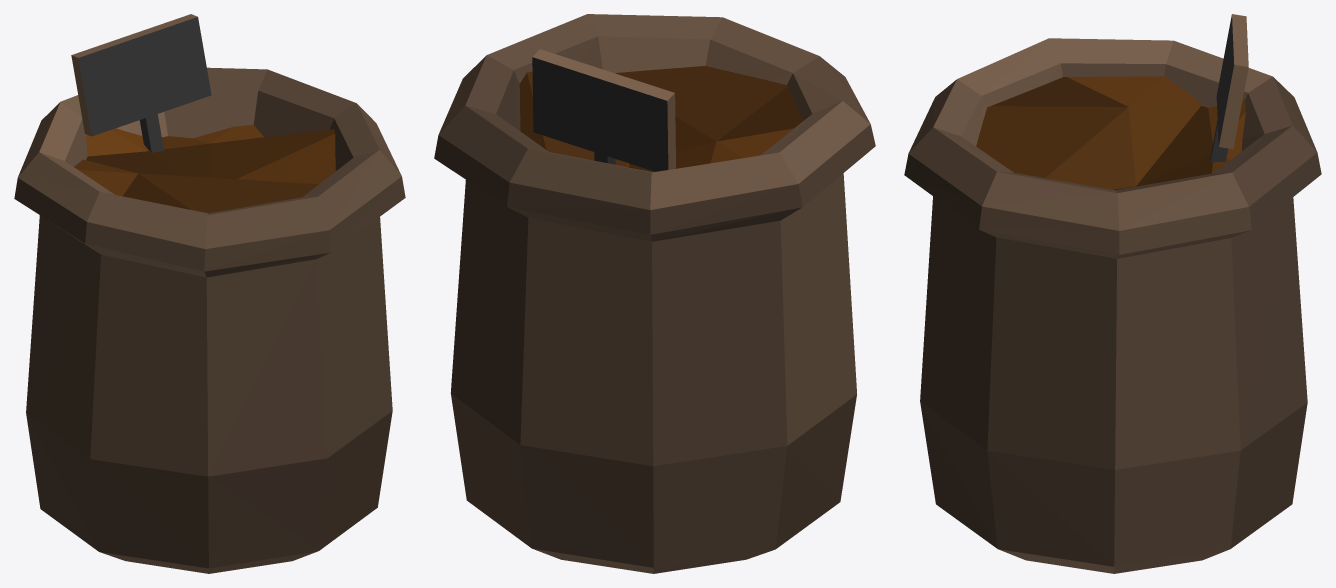
Rendered from Prop_GrainBagC.fbx.
The picture shows the model from 3 angles, left to right: view 1: azimuth 30°, elevation 25°; view 2: azimuth 150°, elevation 25°; view 3: azimuth 270°, elevation 25°; orthographic projection. The views are drawn at different scales.
Visible parts, largest first — view 1: Prop_GrainBagC; view 2: Prop_GrainBagC; view 3: Prop_GrainBagC.
Part boxes in pixels (x1,y1,x2,y2): Prop_GrainBagC: (14,14,405,573); Prop_GrainBagC: (434,14,875,573); Prop_GrainBagC: (904,14,1321,573).
Bounding box in the file's own units: 55.71 × 70.76 × 56.4.
